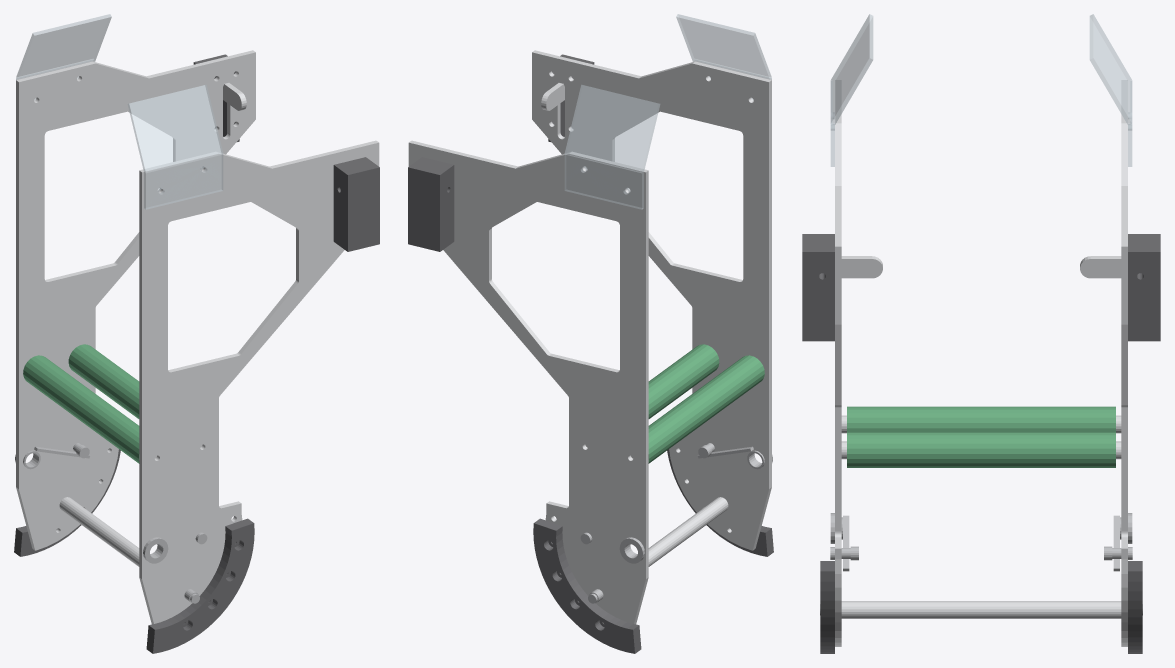
3 views of the same model, side by side, from view 1: azimuth 30°, elevation 25°; view 2: azimuth 150°, elevation 25°; view 3: azimuth 270°, elevation 25° (orthographic). The views are drawn at different scales.
Size of the model in its own units: 0.2253 by 0.4867 by 0.254.
